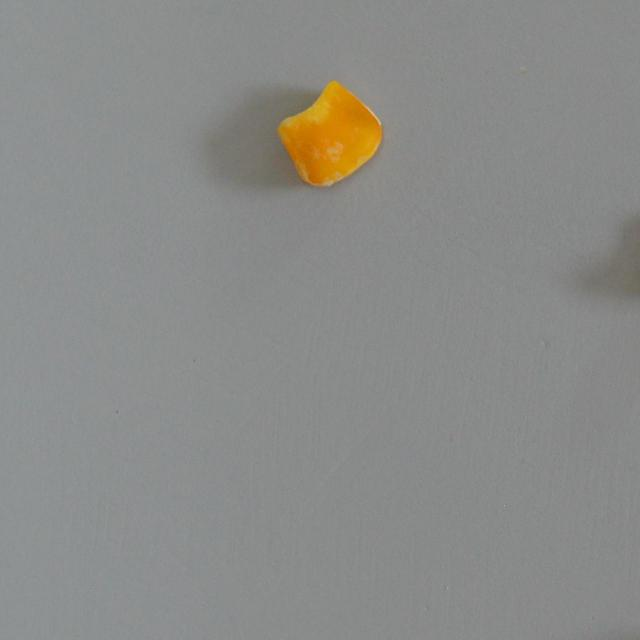dañado: (274, 72, 387, 192)
